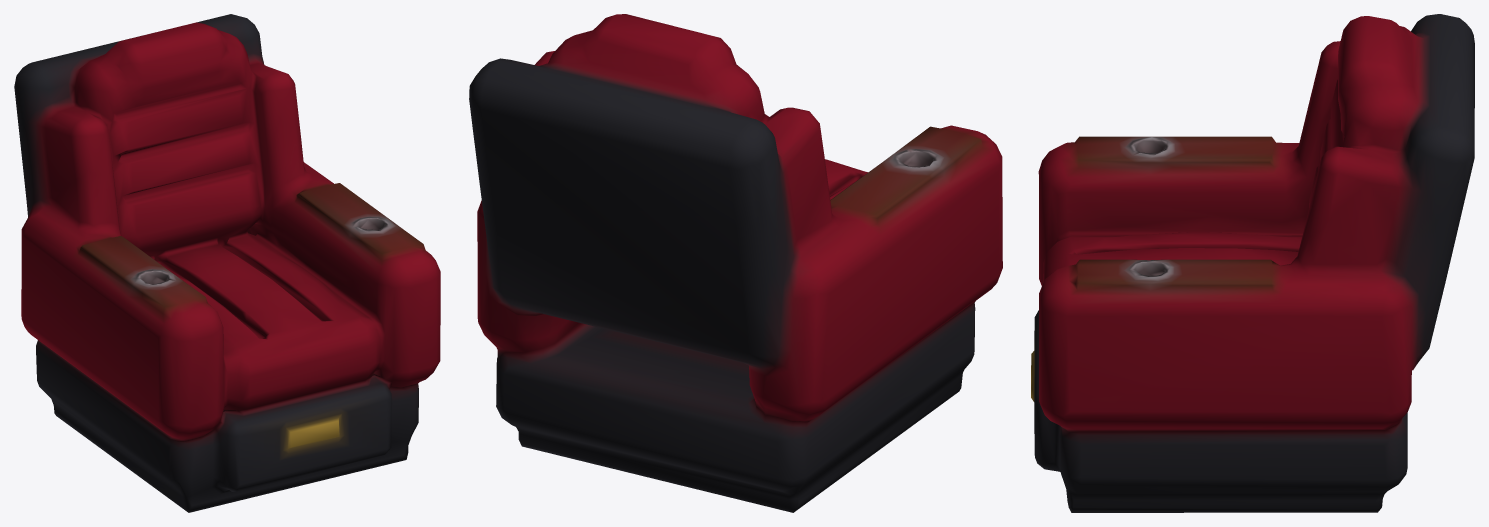
Rendered from lumiere-theatre-seat.glb.
The picture shows the model from 3 angles, left to right: view 1: azimuth 30°, elevation 25°; view 2: azimuth 150°, elevation 25°; view 3: azimuth 270°, elevation 25°; orthographic projection. The views are drawn at different scales.
Visible parts, largest first — view 1: lumiere-theatre-seat_LOD0; view 2: lumiere-theatre-seat_LOD0; view 3: lumiere-theatre-seat_LOD0.
Boxes of the visible parts, x1,y1,x2,y2 form: lumiere-theatre-seat_LOD0: [14, 14, 440, 512]; lumiere-theatre-seat_LOD0: [469, 14, 1002, 512]; lumiere-theatre-seat_LOD0: [1031, 14, 1474, 512].
Size of what is drawn, in the model's own units: 0.8997 by 1.1 by 1.07.
